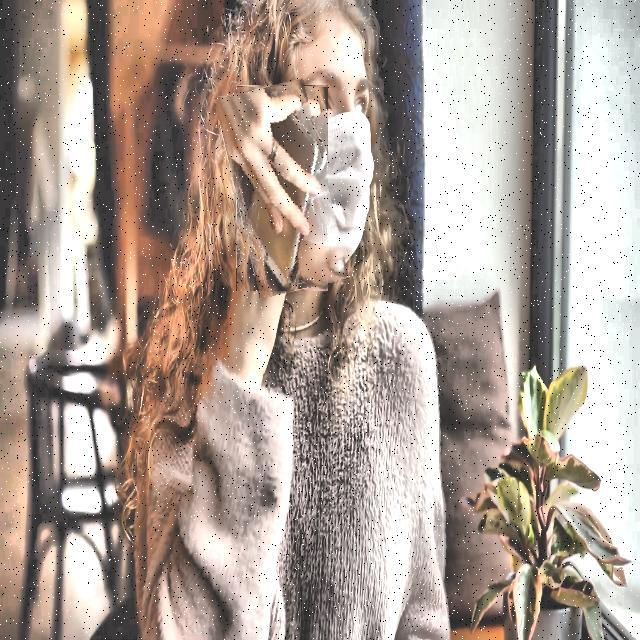Phone: (225, 82, 338, 296)
